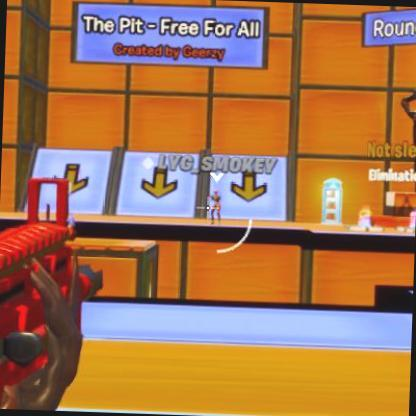person: (208, 188, 223, 224)
